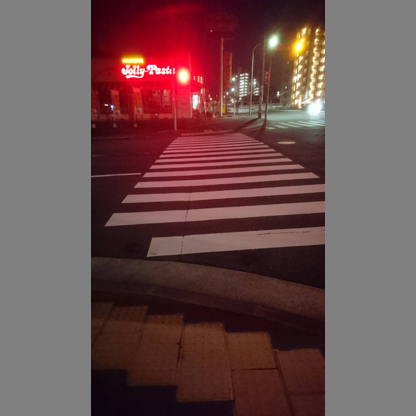brailleblock: (94, 300, 324, 415)
crosswalk: (104, 141, 324, 267)
